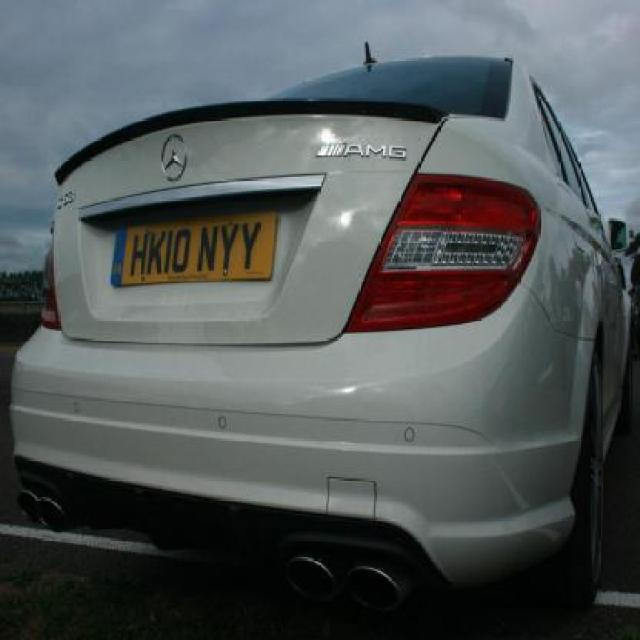License-Plates: (110, 209, 278, 289)
